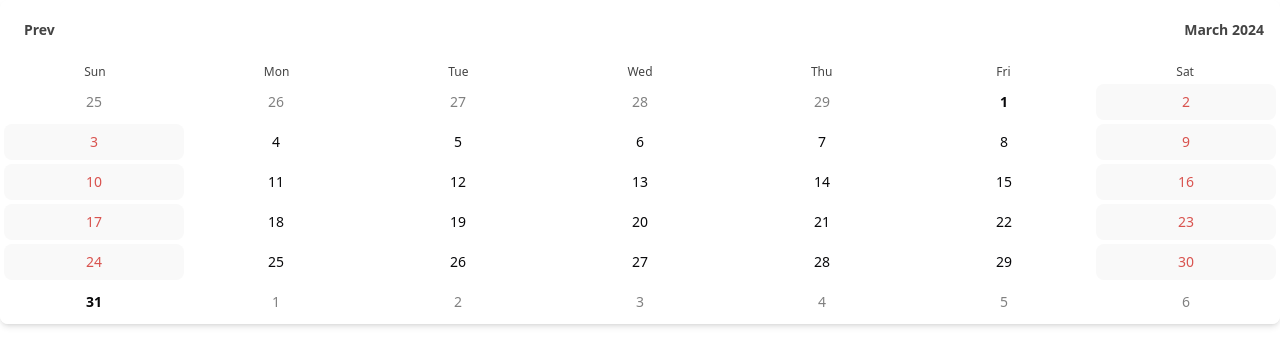
Test: Header – navigation updates Calendar › clicking Previous button moves the calendar to the previous month
Expected: the text "March 2024" is shown, [1184,20,1264,40]
What coordinates should you click on to do the following:
click the button "Prev"
I would click on:
 (39, 30)
Its box is [16,16,63,44].
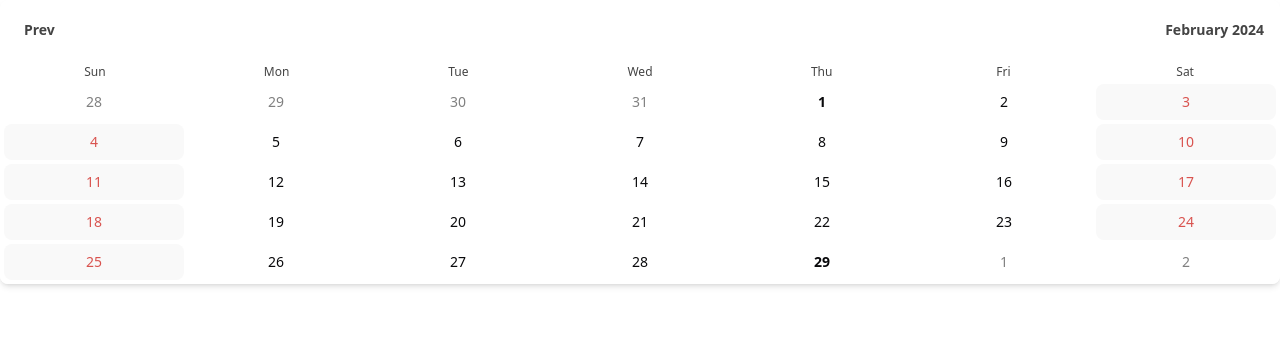
Result: the text "February 2024" is shown at [1165,20,1264,40]
